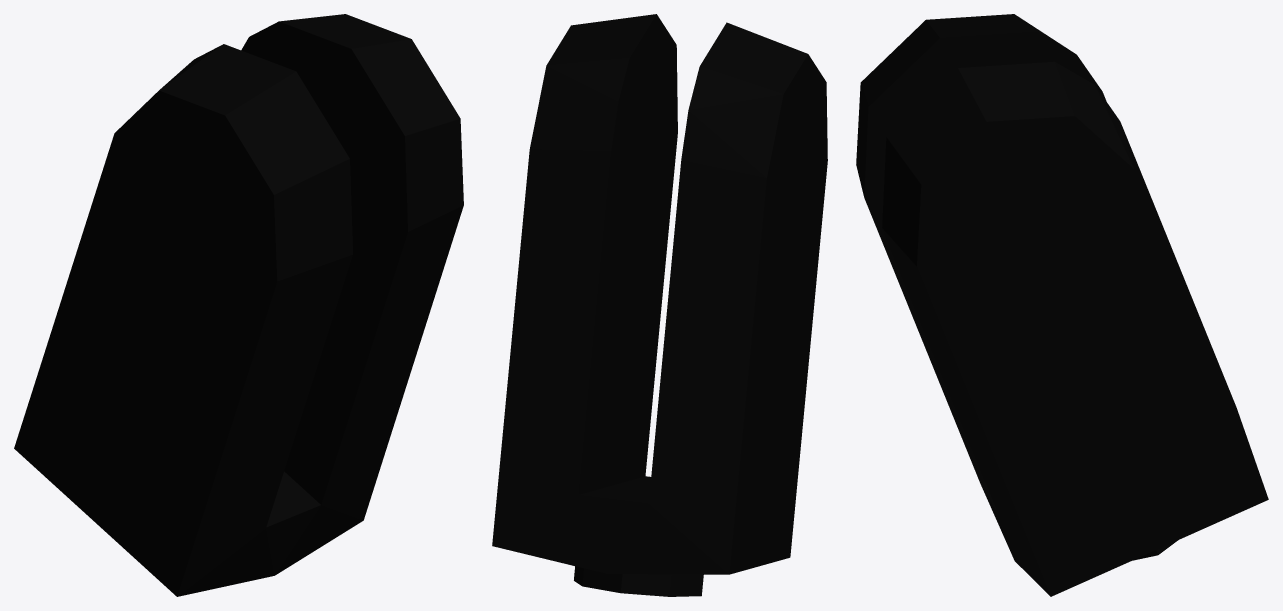
The model's file is mesh18.dat.obj.
The picture shows the model from 3 angles, left to right: view 1: azimuth 30°, elevation 25°; view 2: azimuth 150°, elevation 25°; view 3: azimuth 270°, elevation 25°; orthographic projection. The views are drawn at different scales.
Parts seen in each view (by area): view 1: holder_fourche_low; view 2: holder_fourche_low; view 3: holder_fourche_low.
Boxes of the visible parts, bbox=[...] form: holder_fourche_low: bbox=[14, 14, 463, 596]; holder_fourche_low: bbox=[492, 14, 827, 596]; holder_fourche_low: bbox=[856, 14, 1268, 596].
Bounding box in the file's own units: 0.1234 × 0.2129 × 0.1543.
Materials: 1 (1 with a texture image).
